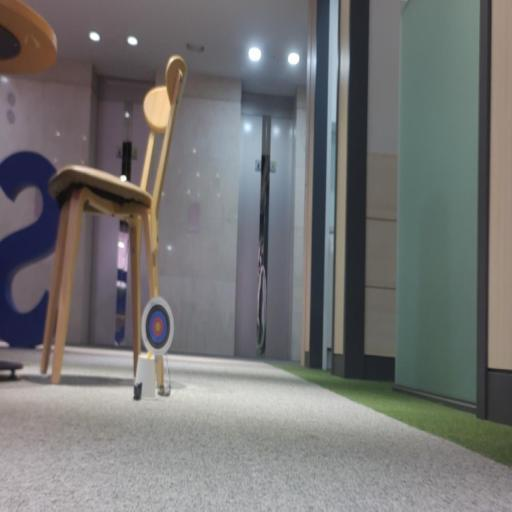target: (141, 296, 174, 356)
